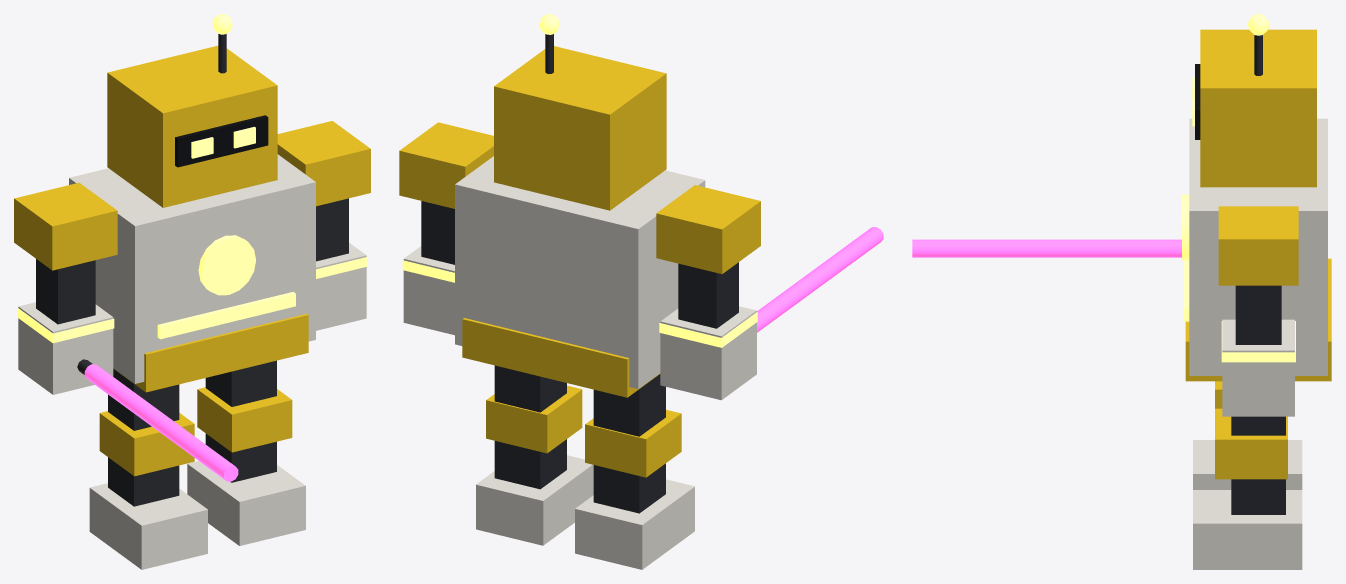
Rendered from robot_paladin_white.glb.
3 renders of one model, left to right at view 1: azimuth 30°, elevation 25°; view 2: azimuth 150°, elevation 25°; view 3: azimuth 270°, elevation 25°, orthographic. The views are drawn at different scales.
Parts seen in each view (by area): view 1: torso, head, arm_R, leg_L, leg_R, arm_L; view 2: torso, head, arm_R, leg_R, leg_L, arm_L; view 3: head, torso, arm_L, leg_L, arm_R, leg_R.
Boxes of the visible parts, x1,y1,x2,y2 form: torso: (69, 154, 315, 392); head: (107, 14, 277, 207); arm_R: (14, 182, 238, 481); leg_L: (187, 360, 305, 545); leg_R: (89, 369, 207, 569); arm_L: (277, 121, 370, 330); torso: (455, 156, 705, 397); head: (494, 14, 666, 210); arm_R: (656, 185, 883, 400); leg_R: (575, 374, 694, 569); leg_L: (476, 365, 593, 545); arm_L: (399, 122, 493, 335); head: (1192, 14, 1316, 187); torso: (1182, 118, 1331, 381); arm_L: (1218, 206, 1298, 416); leg_L: (1193, 408, 1302, 569); arm_R: (912, 239, 1181, 257); leg_R: (1193, 381, 1302, 489).
Bounding box in the file's own units: 1.21 × 1.84 × 1.32.
